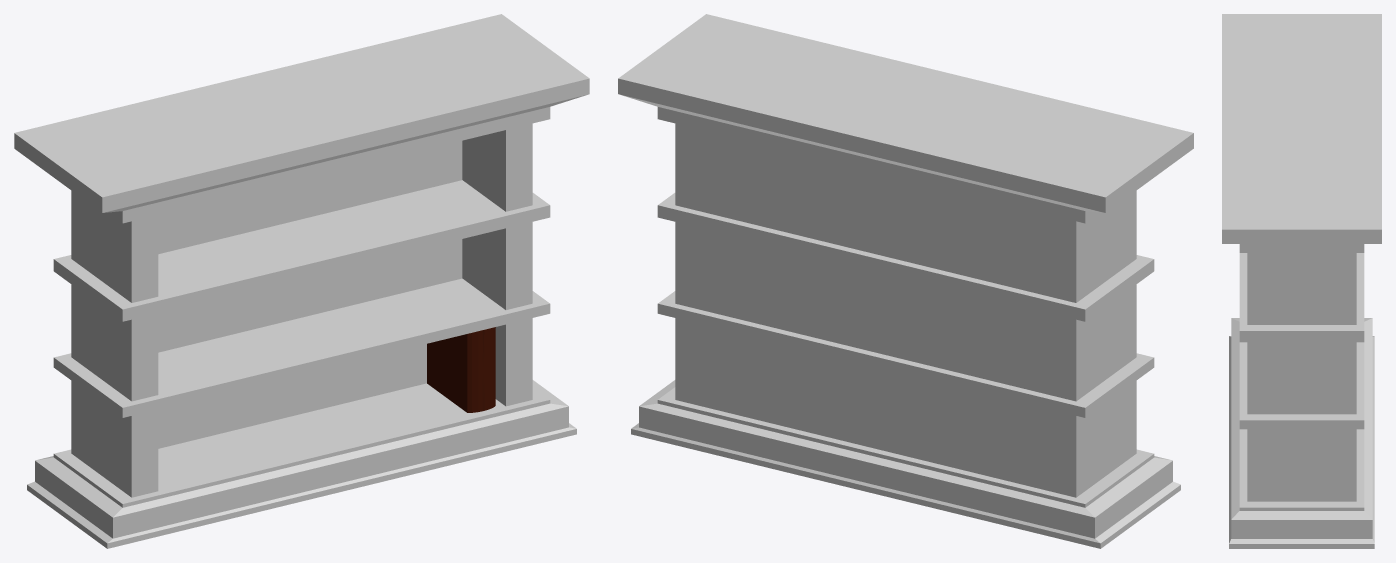
The model's file is Book_shelf_with_book.FBX.
The picture shows the model from 3 angles, left to right: view 1: azimuth 30°, elevation 25°; view 2: azimuth 150°, elevation 25°; view 3: azimuth 270°, elevation 25°; orthographic projection. The views are drawn at different scales.
Parts seen in each view (by area): view 1: Box001, Box004; view 2: Box001; view 3: Box001.
Part boxes in pixels (x1,y1,x2,y2): Box001: (14,14,589,548); Box004: (427,327,495,412); Box001: (618,14,1193,548); Box001: (1222,14,1381,548).
Bounding box in the file's own units: 2.13 × 1.49 × 0.6655.
